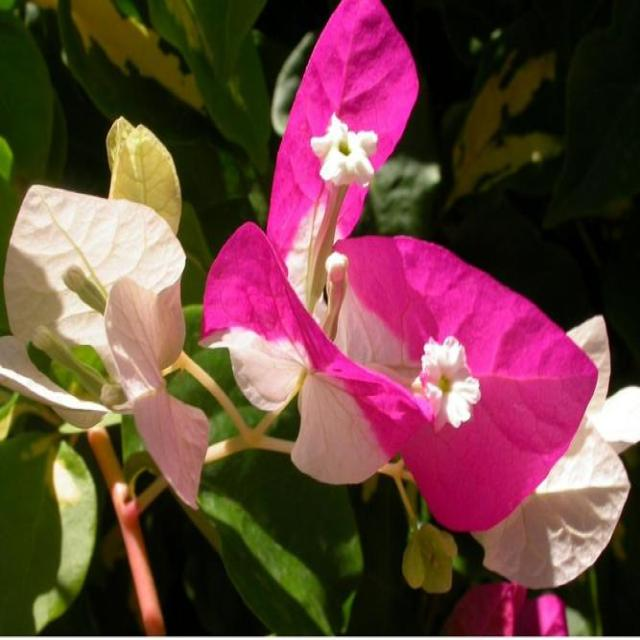bougainvillea: (12, 24, 610, 640)
